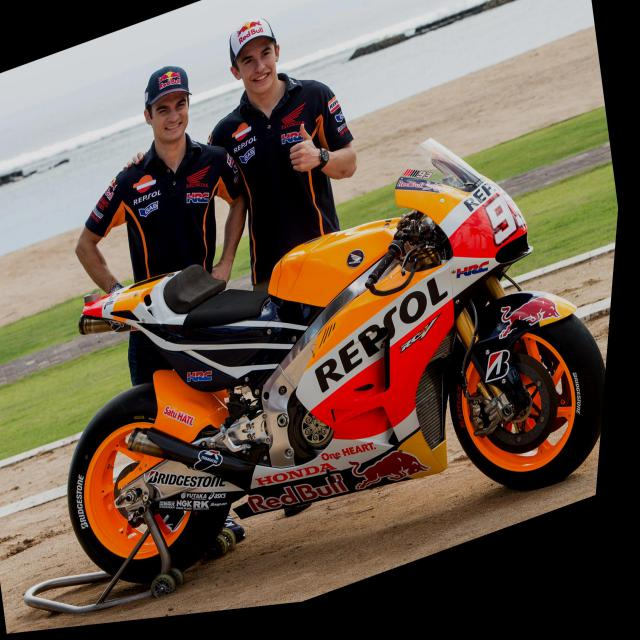HRC RCV 213: (26, 96, 630, 634)
